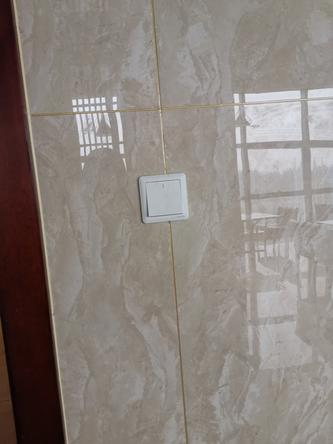switch: (143, 177, 187, 217)
